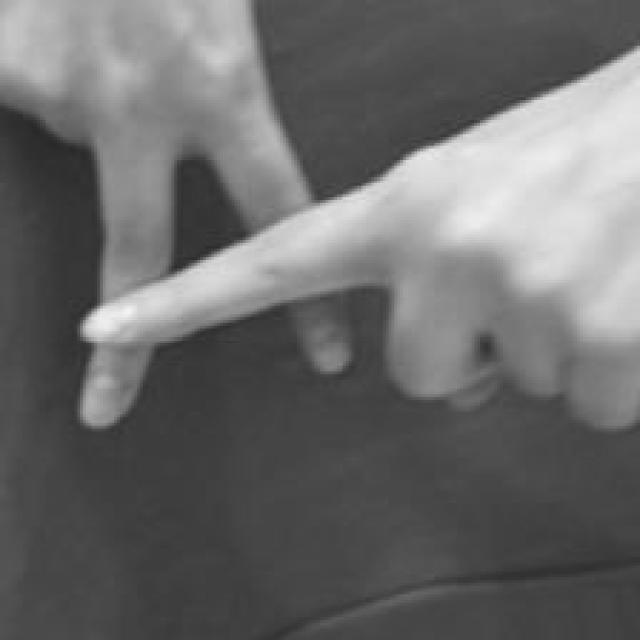A: (1, 2, 640, 434)
